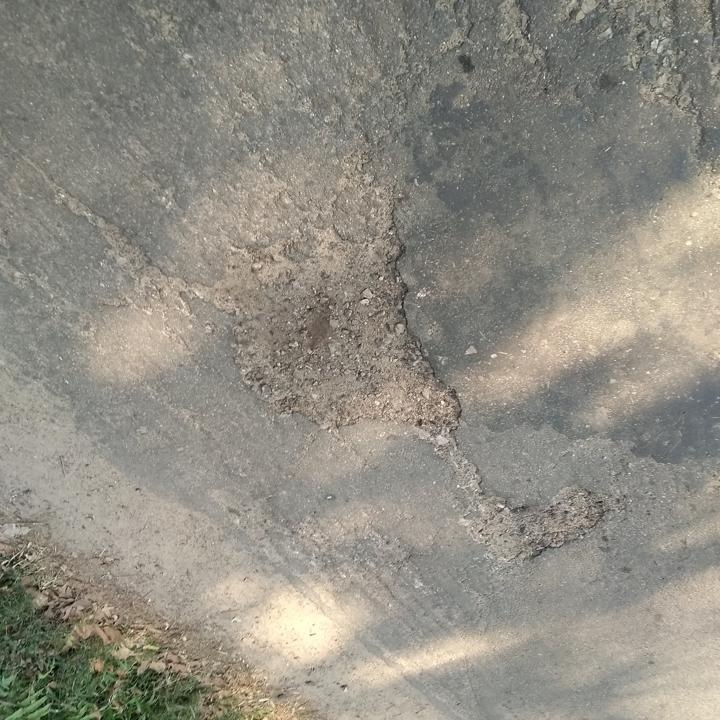pothole: (215, 219, 467, 443), (467, 486, 611, 574)
